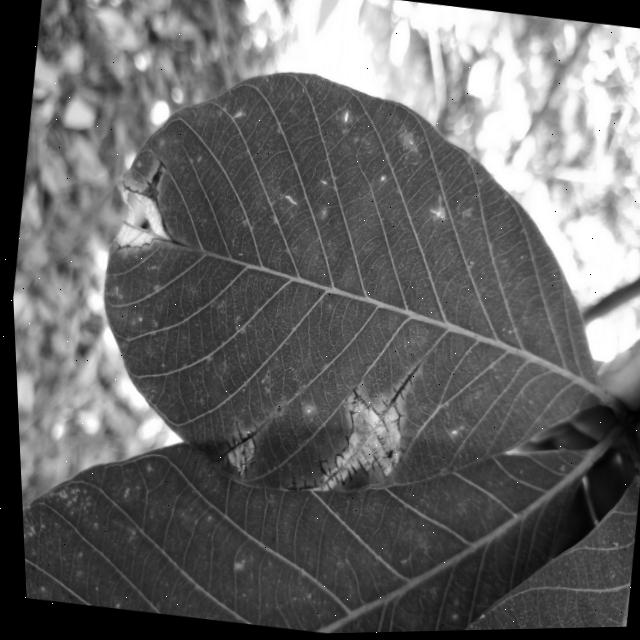Colletotrichum: (303, 409, 308, 414)
Corynespora: (278, 342, 426, 507), (205, 413, 267, 481), (384, 361, 419, 409), (140, 156, 169, 202), (340, 385, 371, 417), (384, 403, 404, 440), (309, 454, 327, 479)
Leaf-Blight: (108, 181, 176, 253)
